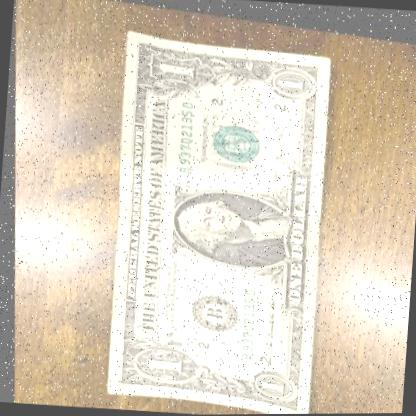dollar_front: (78, 20, 351, 416)
